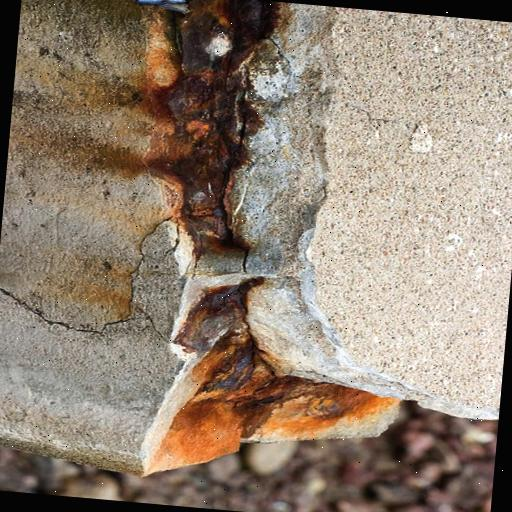spalling: (142, 0, 496, 467)
